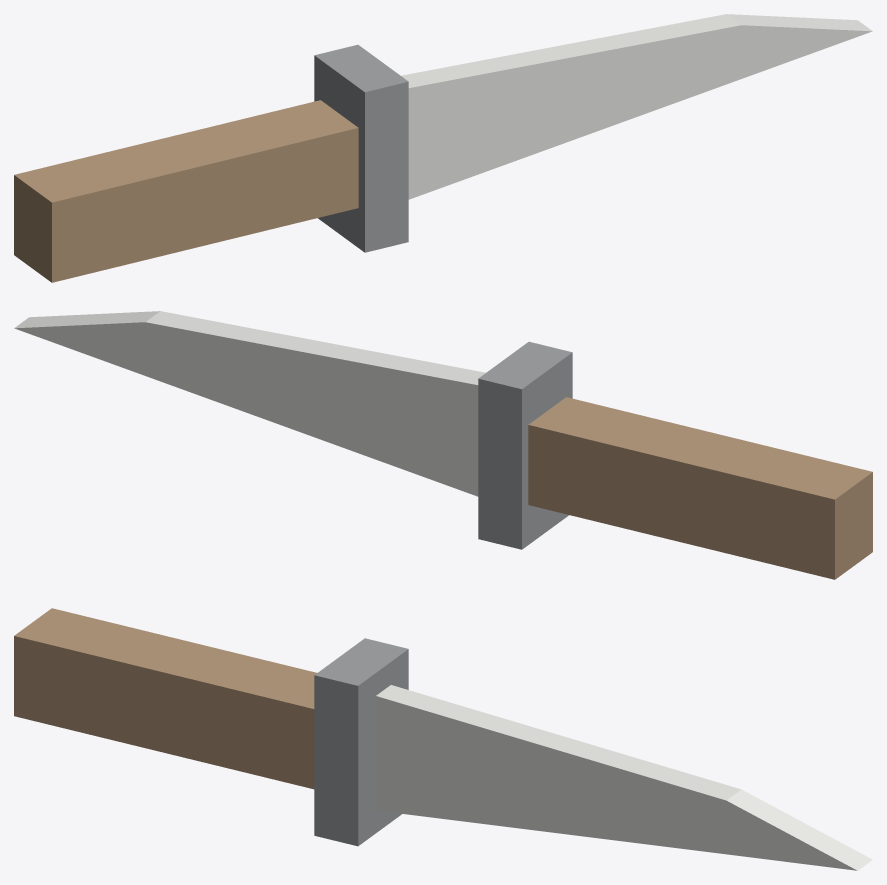
File: held_weapon_bone_knife.glb
The picture shows the model from 3 angles, top to bottom: view 1: azimuth 30°, elevation 25°; view 2: azimuth 150°, elevation 25°; view 3: azimuth 330°, elevation 25°; orthographic projection.
Visible parts, largest first — view 1: held_weapon_bone_knife; view 2: held_weapon_bone_knife; view 3: held_weapon_bone_knife.
Boxes of the visible parts, box(x1,y1,x2,y2) form: held_weapon_bone_knife: box(14, 14, 872, 282); held_weapon_bone_knife: box(14, 311, 872, 579); held_weapon_bone_knife: box(14, 608, 872, 870).
Bounding box in the file's own units: 0.38 × 0.07 × 0.04.
